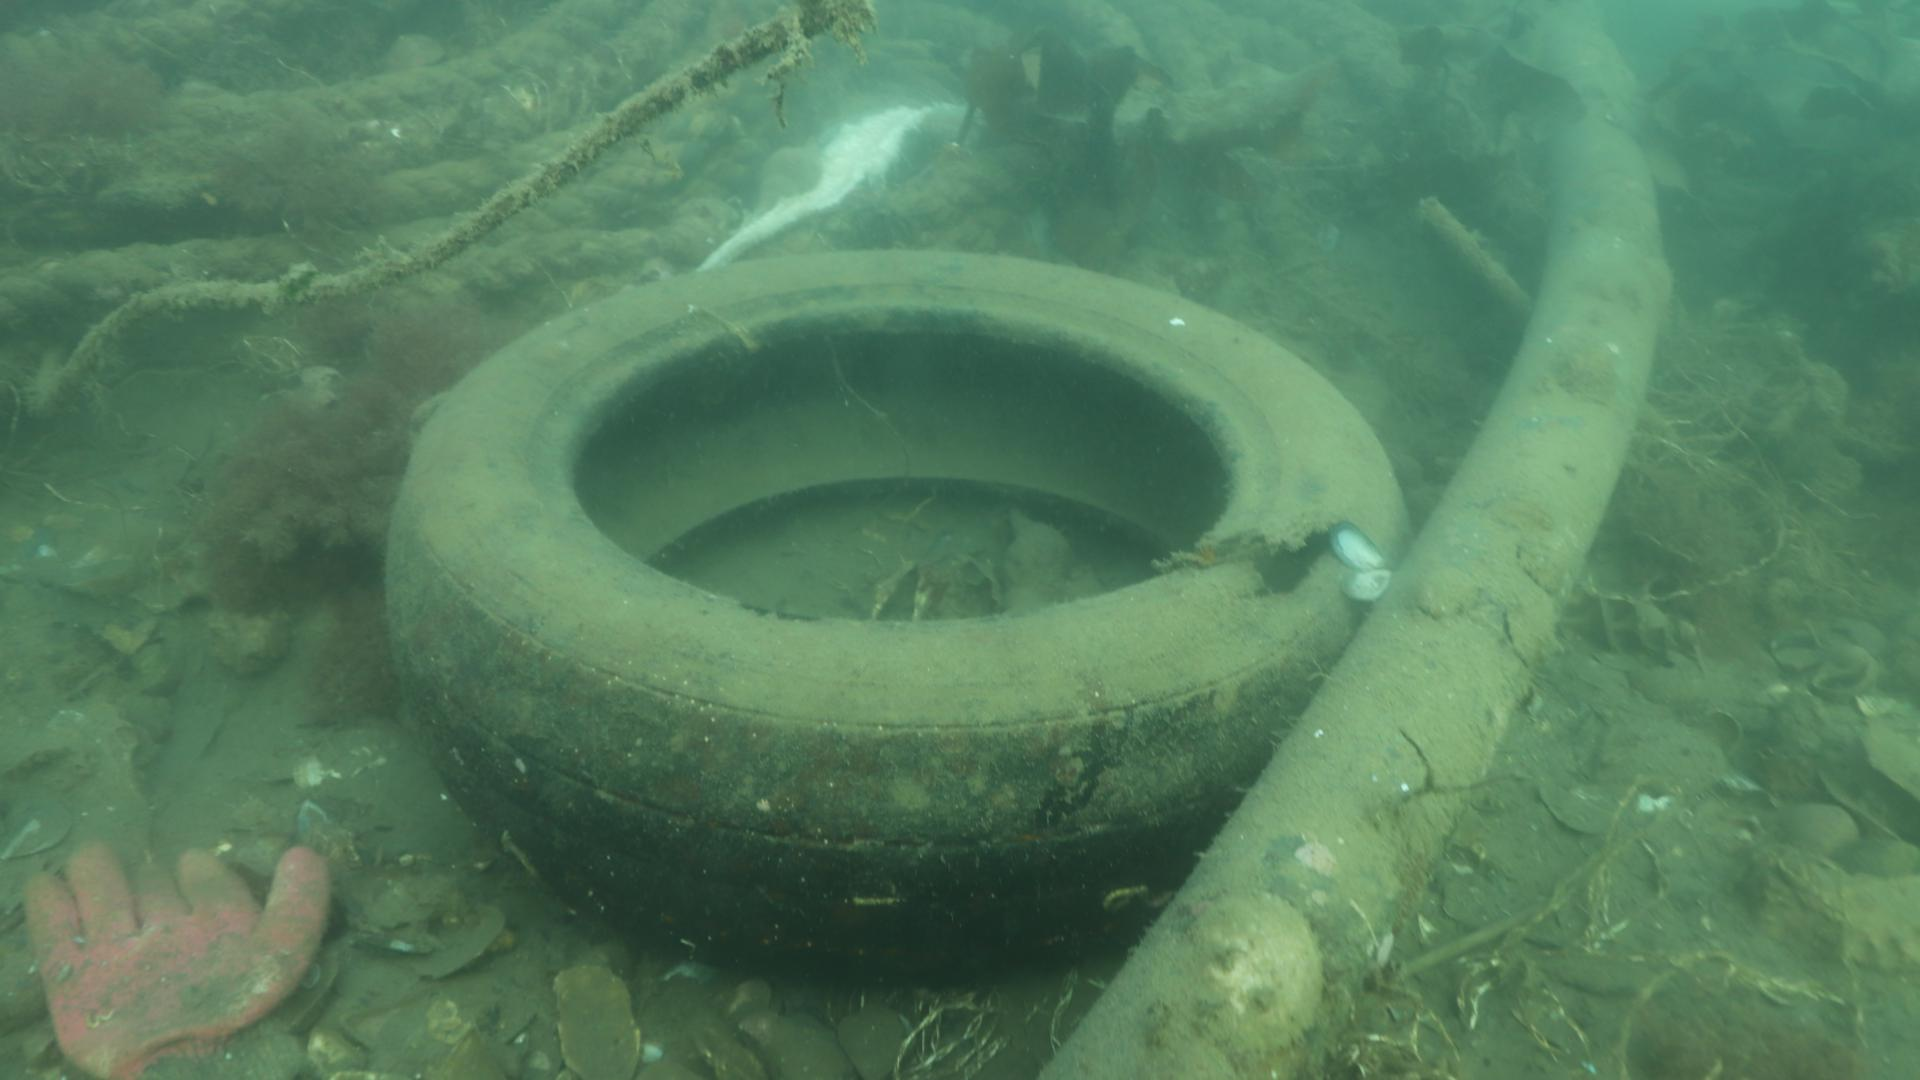bundle of ropes: (0, 3, 860, 407)
tire: (382, 248, 1414, 982)
